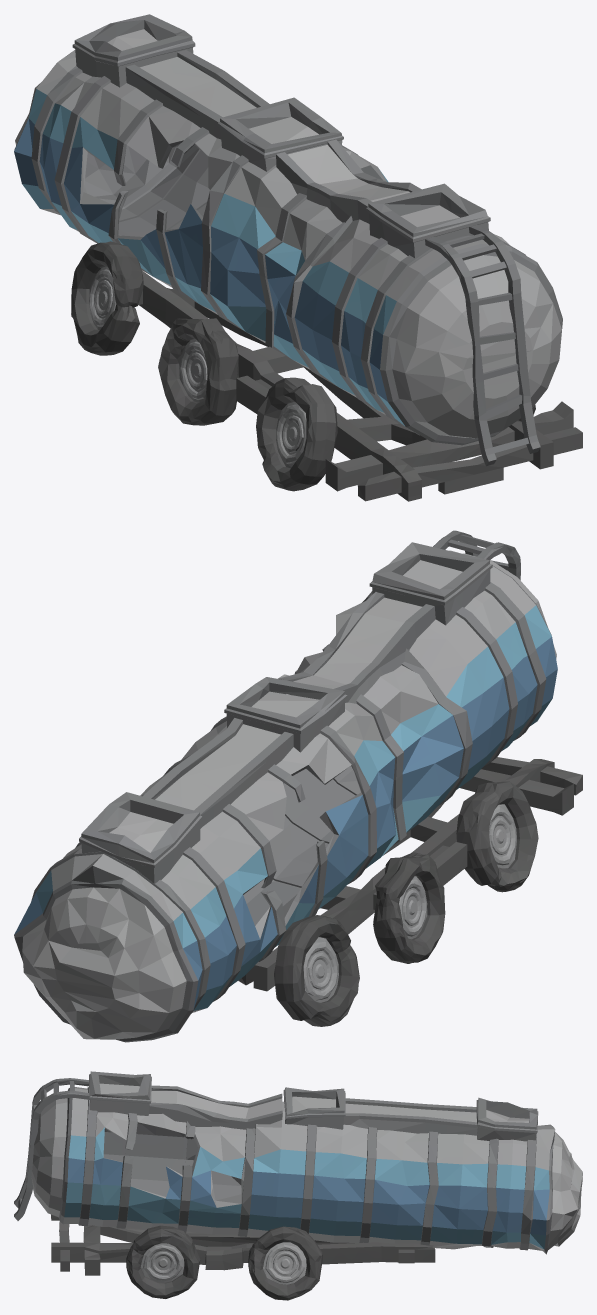
Rendered from tanker_trailer_1.obj.
The picture shows the model from 3 angles, top to bottom: view 1: azimuth 30°, elevation 25°; view 2: azimuth 150°, elevation 25°; view 3: azimuth 270°, elevation 25°; orthographic projection. The views are drawn at different scales.
Visible parts, largest first — view 1: tanker_Mesh, top_port_Mesh, trucker_Mesh, ladder_Mesh, wheel.004_Mesh, wheel.005_Mesh, wheel.003_Mesh; view 2: tanker_Mesh, top_port_Mesh, trucker_Mesh, wheel.003_Mesh, wheel.004_Mesh, wheel.005_Mesh, ladder_Mesh; view 3: tanker_Mesh, top_port_Mesh, trucker_Mesh, wheel.001_Mesh, wheel.002_Mesh, ladder_Mesh.
Part boxes in pixels (x1,y1,x2,y2): tanker_Mesh: (14, 50, 562, 445); top_port_Mesh: (72, 14, 490, 257); trucker_Mesh: (138, 270, 582, 501); ladder_Mesh: (425, 225, 540, 466); wheel.004_Mesh: (256, 377, 337, 491); wheel.005_Mesh: (158, 318, 238, 425); wheel.003_Mesh: (71, 241, 143, 355); tanker_Mesh: (14, 550, 557, 1042); top_port_Mesh: (79, 542, 492, 883); trucker_Mesh: (238, 757, 582, 991); wheel.003_Mesh: (274, 915, 359, 1026); wheel.004_Mesh: (456, 781, 538, 892); wheel.005_Mesh: (373, 852, 445, 963); ladder_Mesh: (433, 530, 520, 580); tanker_Mesh: (31, 1087, 582, 1254); top_port_Mesh: (89, 1071, 538, 1141); trucker_Mesh: (51, 1214, 435, 1275); wheel.001_Mesh: (248, 1226, 322, 1300); wheel.002_Mesh: (126, 1225, 200, 1298); ladder_Mesh: (14, 1078, 89, 1220).
Size of the model in its own units: 3.82 by 4.03 by 11.19.
